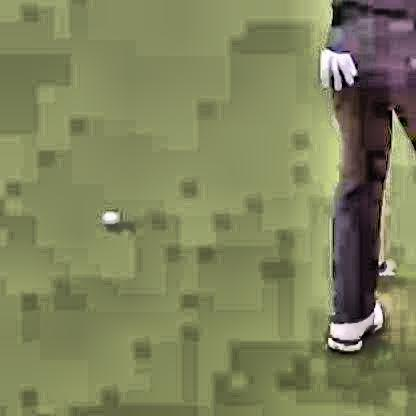golfball: (99, 207, 117, 226)
